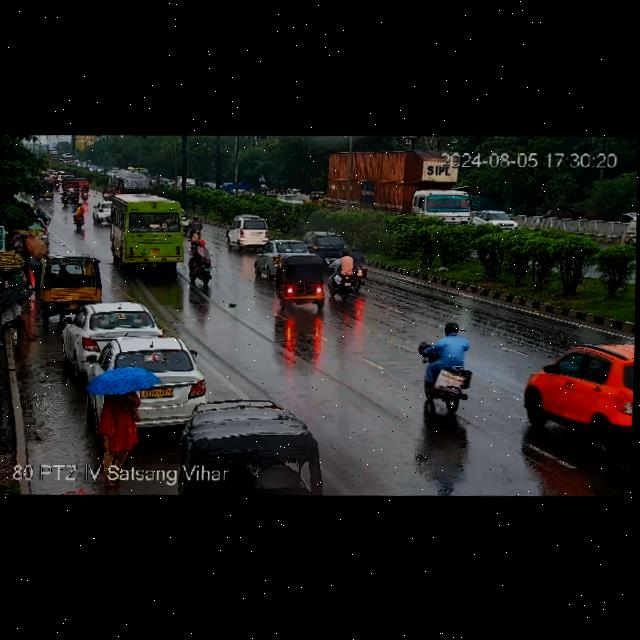bus: (110, 192, 192, 273)
car: (526, 318, 635, 468), (83, 325, 208, 439), (60, 299, 161, 375), (41, 253, 104, 327), (274, 248, 332, 317), (252, 237, 312, 280), (303, 224, 356, 266), (227, 211, 271, 250), (472, 197, 521, 226), (618, 204, 637, 241), (308, 188, 328, 207), (279, 189, 307, 201), (260, 182, 275, 196)
motorcycle: (417, 319, 488, 420), (186, 236, 224, 292), (327, 248, 354, 303), (351, 244, 367, 291), (68, 201, 92, 230), (188, 212, 210, 242), (76, 178, 96, 203), (98, 181, 114, 202), (69, 182, 81, 204), (58, 187, 70, 206)
person: (87, 364, 162, 462), (0, 281, 39, 354), (27, 235, 46, 288), (10, 234, 31, 257)
truck: (328, 143, 469, 224), (109, 165, 155, 198)
